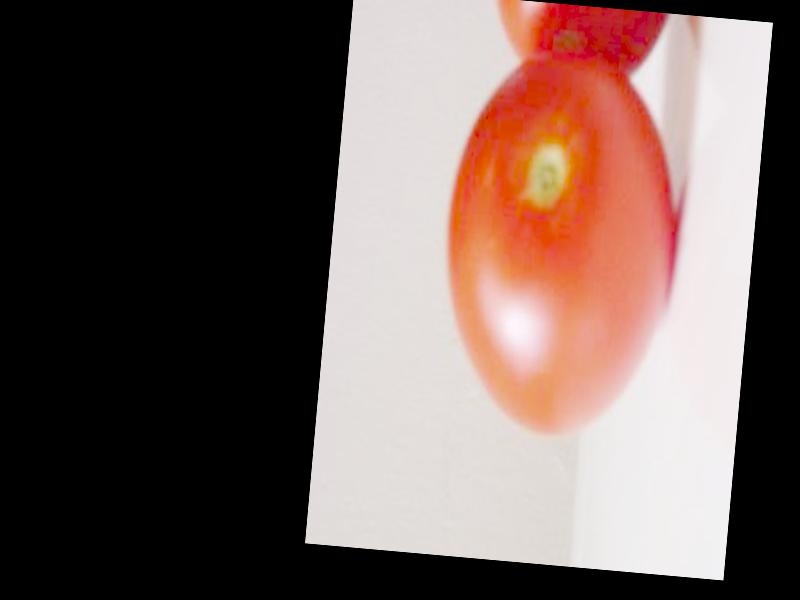Tomato: (430, 45, 688, 444)
